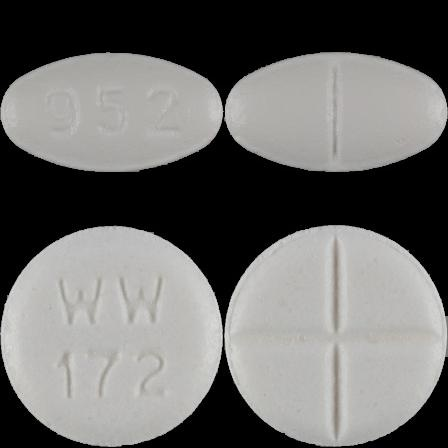63629-1337: (0, 0, 224, 224)
